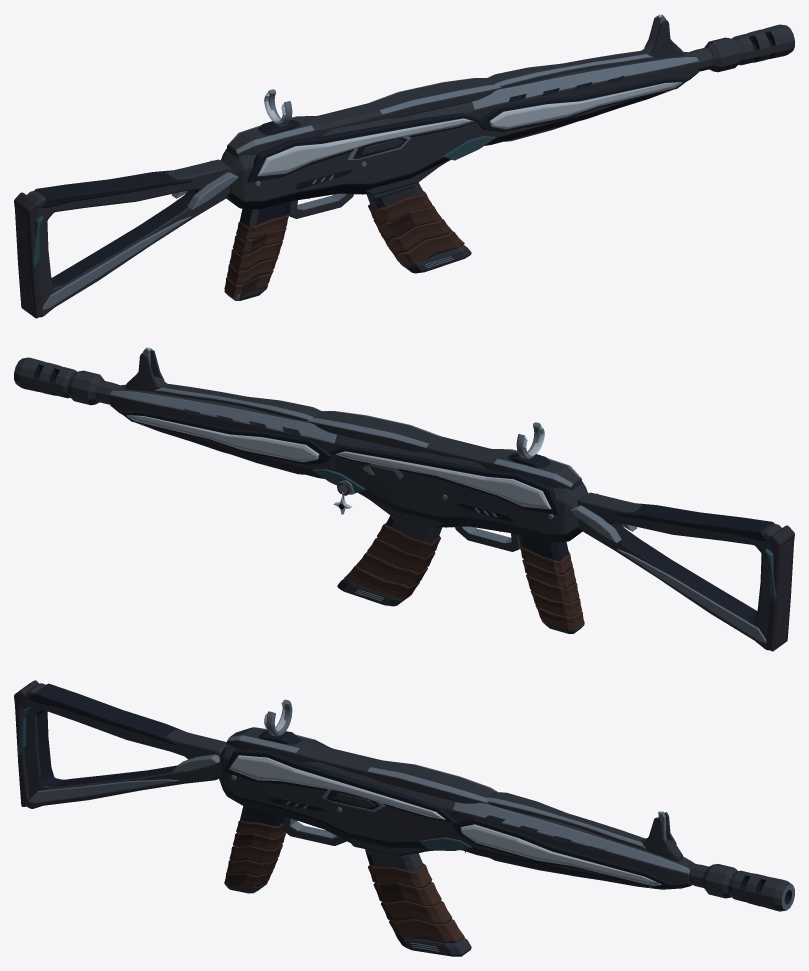
The model's file is Vandal_StormShadow_v06.glb.
3 views of the same model, one above another, from view 1: azimuth 30°, elevation 25°; view 2: azimuth 150°, elevation 25°; view 3: azimuth 330°, elevation 25° (orthographic).
Visible parts, largest first — view 1: Receiver_IndigoForging.001, Stock_ContinuousTriangularFrame.001, Shroud_OctagonalForging.001, UpperSpine_ProwBrow.001, Rear_SilverPlate_Far.001, Stock_CheekSaddle.001, Rear_DovetailBed_Far.001, Fore_SilverPlate_Far.001, Shroud_DorsalBlade.001, Fore_DovetailBed_Far.001, Muzzle_FourVentCage.001, Stock_ButtPad.001 (+17 smaller); view 2: Receiver_IndigoForging.001, Stock_ContinuousTriangularFrame.001, Shroud_OctagonalForging.001, UpperSpine_ProwBrow.001, Rear_SilverPlate_Player.001, Stock_CheekSaddle.001, Rear_DovetailBed_Player.001, Fore_SilverPlate_Player.001, Shroud_DorsalBlade.001, Fore_DovetailBed_Player.001, Muzzle_FourVentCage.001, Stock_ButtPad.001 (+17 smaller); view 3: Receiver_IndigoForging.001, Stock_ContinuousTriangularFrame.001, Shroud_OctagonalForging.001, UpperSpine_ProwBrow.001, Stock_CheekSaddle.001, Rear_SilverPlate_Far.001, Fore_SilverPlate_Far.001, Rear_DovetailBed_Far.001, Shroud_DorsalBlade.001, Muzzle_FourVentCage.001, Fore_DovetailBed_Far.001, Stock_DiagonalSpline.003 (+18 smaller).
Boxes of the visible parts, bbox=[...] form: Receiver_IndigoForging.001: bbox=[221, 101, 474, 209]; Stock_ContinuousTriangularFrame.001: bbox=[16, 159, 231, 317]; Shroud_OctagonalForging.001: bbox=[472, 51, 698, 145]; UpperSpine_ProwBrow.001: bbox=[227, 78, 501, 157]; Rear_SilverPlate_Far.001: bbox=[257, 118, 473, 176]; Stock_CheekSaddle.001: bbox=[34, 170, 193, 208]; Rear_DovetailBed_Far.001: bbox=[247, 113, 479, 182]; Fore_SilverPlate_Far.001: bbox=[489, 82, 682, 129]; Shroud_DorsalBlade.001: bbox=[487, 51, 654, 87]; Fore_DovetailBed_Far.001: bbox=[477, 77, 688, 131]; Muzzle_FourVentCage.001: bbox=[732, 24, 794, 65]; Stock_ButtPad.001: bbox=[14, 192, 42, 318]; Receiver_IndigoForging.001: bbox=[334, 434, 587, 542]; Stock_ContinuousTriangularFrame.001: bbox=[577, 492, 792, 650]; Shroud_OctagonalForging.001: bbox=[110, 384, 336, 478]; UpperSpine_ProwBrow.001: bbox=[307, 411, 581, 490]; Rear_SilverPlate_Player.001: bbox=[335, 451, 551, 509]; Stock_CheekSaddle.001: bbox=[615, 503, 774, 541]; Rear_DovetailBed_Player.001: bbox=[329, 446, 561, 515]; Fore_SilverPlate_Player.001: bbox=[126, 415, 319, 461]; Shroud_DorsalBlade.001: bbox=[154, 384, 321, 420]; Fore_DovetailBed_Player.001: bbox=[120, 410, 331, 464]; Muzzle_FourVentCage.001: bbox=[14, 357, 76, 398]; Stock_ButtPad.001: bbox=[766, 525, 794, 651]; Receiver_IndigoForging.001: bbox=[218, 744, 461, 850]; Stock_ContinuousTriangularFrame.001: bbox=[22, 683, 226, 808]; Shroud_OctagonalForging.001: bbox=[452, 802, 695, 889]; UpperSpine_ProwBrow.001: bbox=[227, 727, 498, 803]; Stock_CheekSaddle.001: bbox=[28, 683, 185, 746]; Rear_SilverPlate_Far.001: bbox=[229, 755, 445, 819]; Fore_SilverPlate_Far.001: bbox=[460, 824, 661, 885]; Rear_DovetailBed_Far.001: bbox=[224, 749, 456, 822]; Shroud_DorsalBlade.001: bbox=[487, 792, 647, 850]; Muzzle_FourVentCage.001: bbox=[728, 870, 794, 911]; Fore_DovetailBed_Far.001: bbox=[452, 818, 673, 888]; Stock_DiagonalSpline.003: bbox=[28, 779, 178, 803].
Size of the model in its own units: 3.9 by 1 by 0.292.
